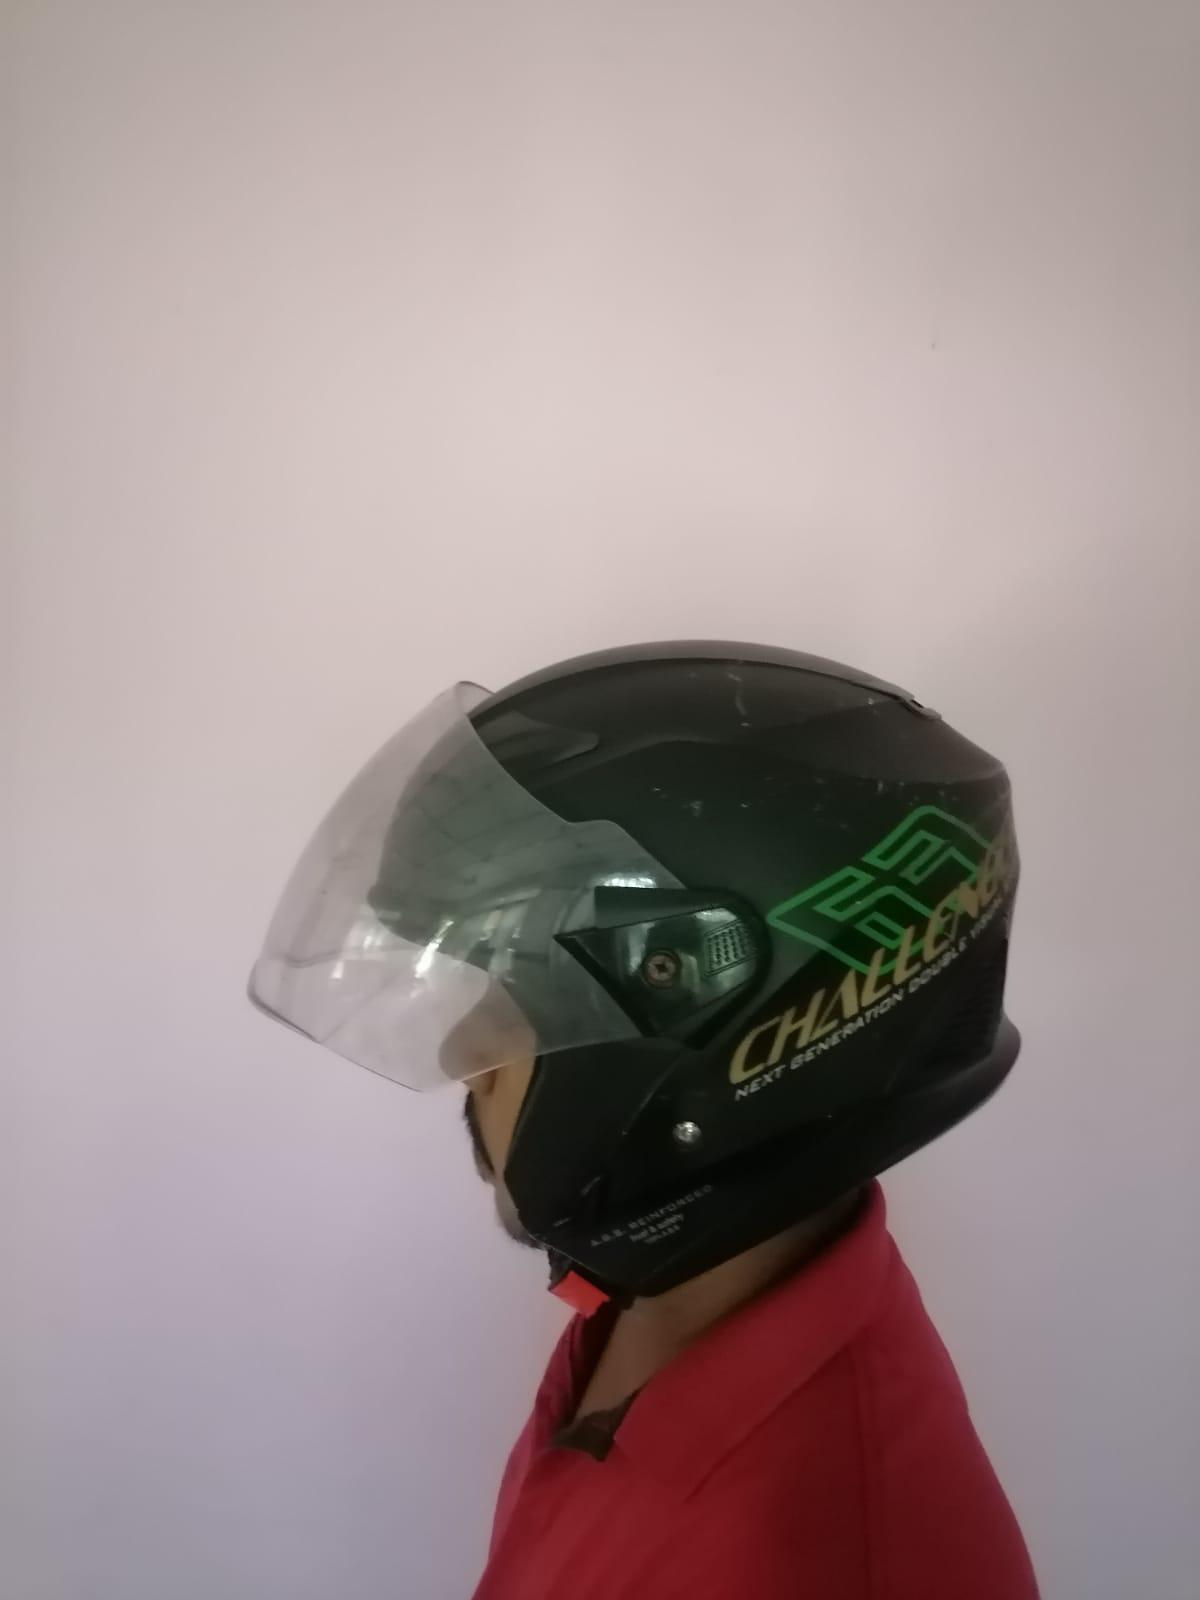helmet: (243, 636, 1024, 1306)
